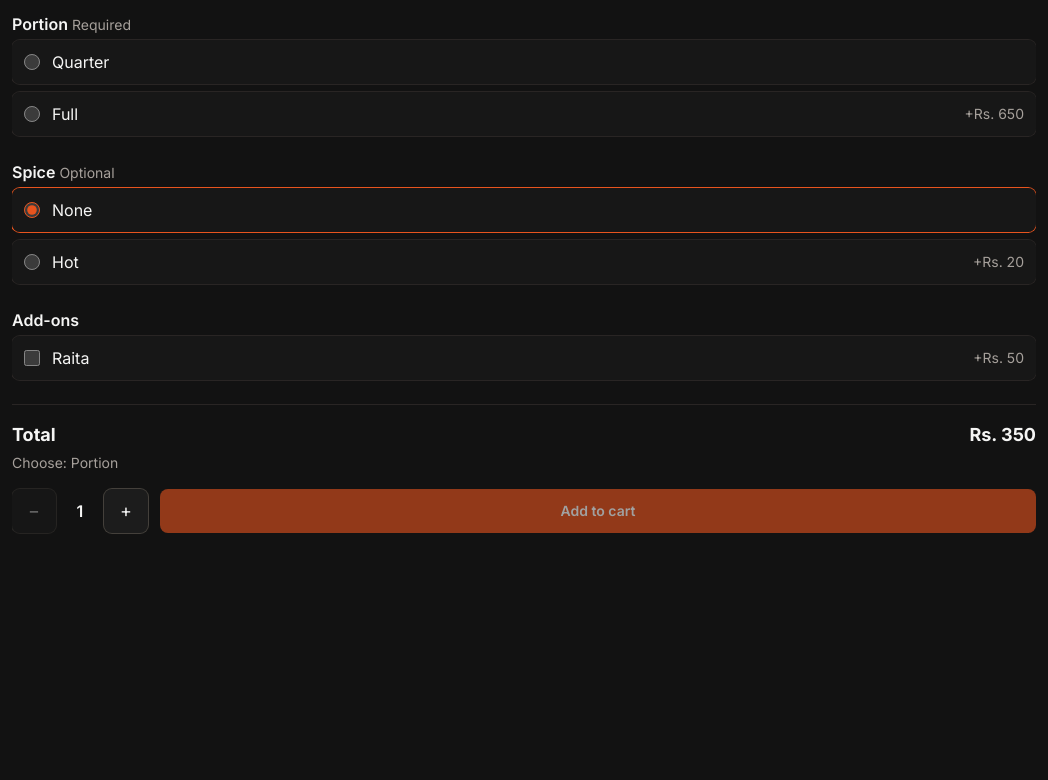
Test: ProductOptions › lets optional groups be cleared with None
Click the radio button labelled "Hot +Rs. 20": (32, 262) [24,254,40,270]
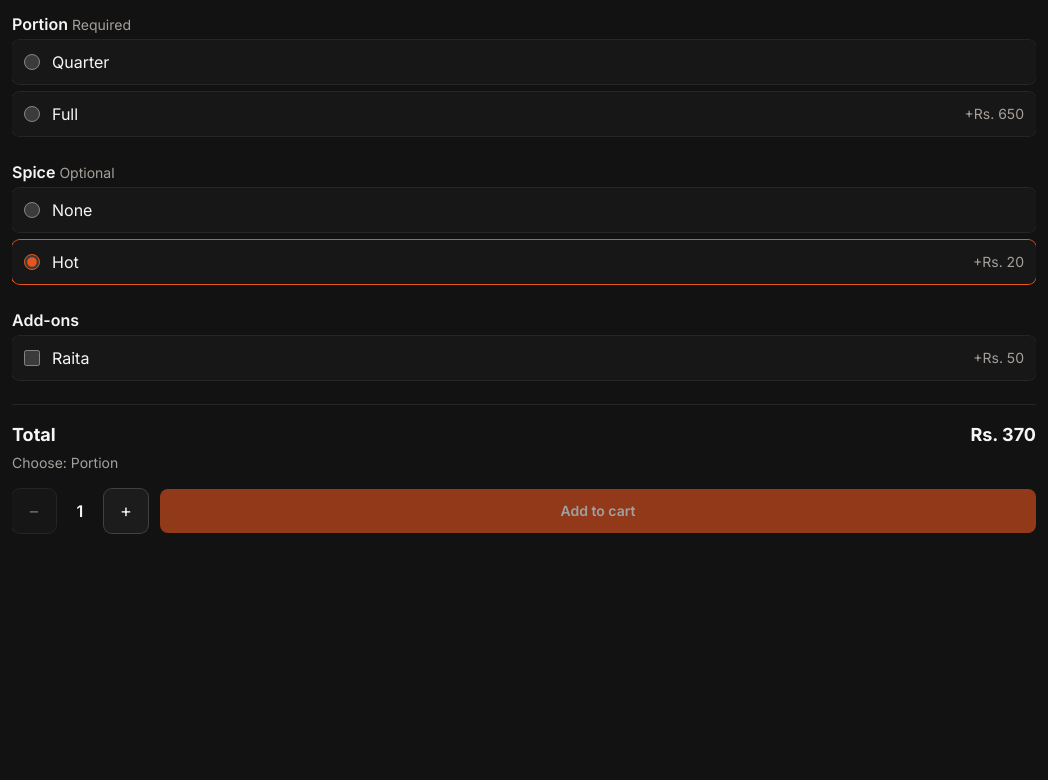
Check: the text "Rs. 370" is shown, box [970,421,1036,449]
Click the radio button labelled "None": (32, 210) [24,202,40,218]
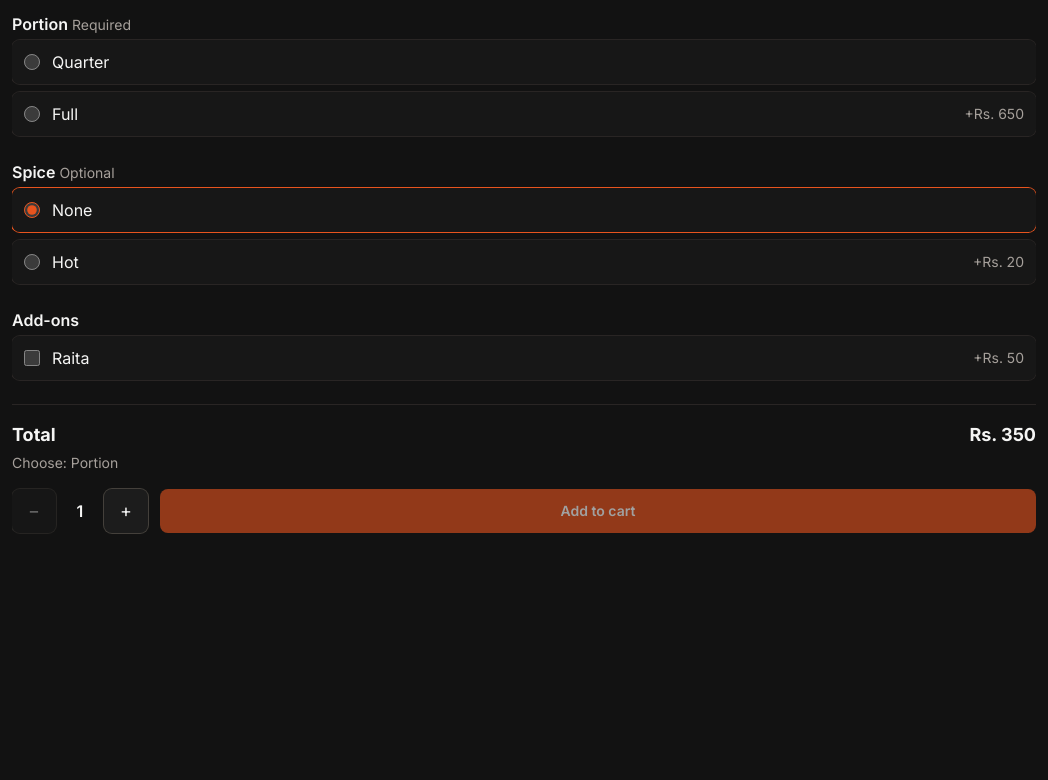
Check: the text "Rs. 350" is shown, box [969,421,1036,449]
